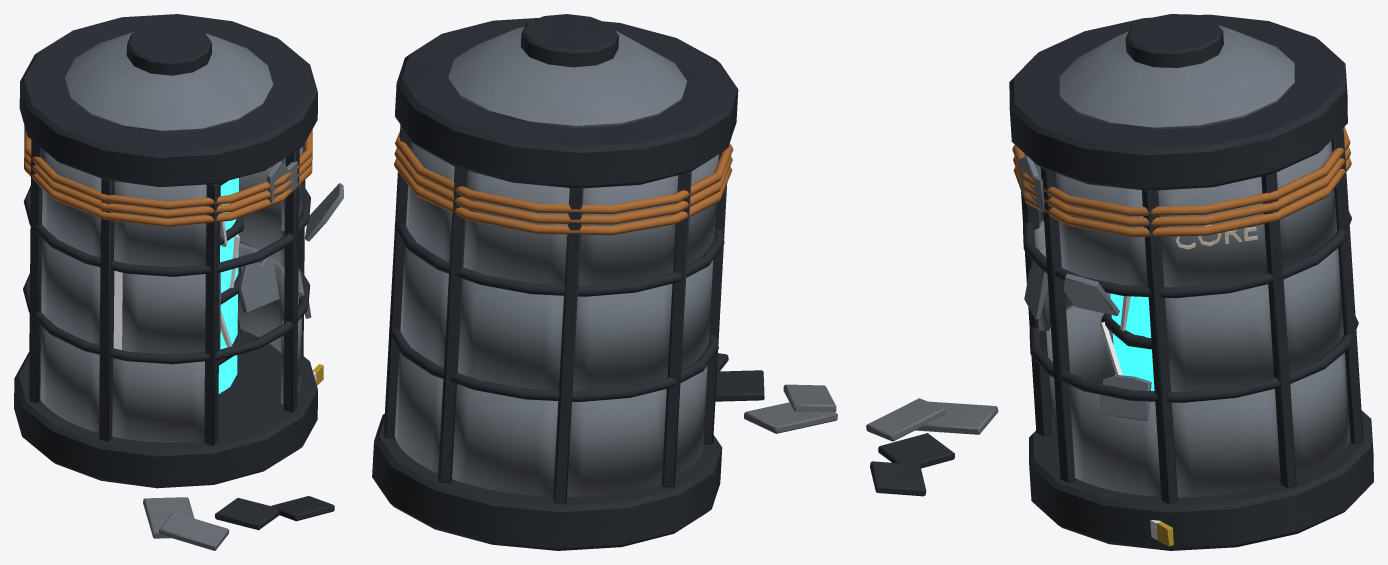
Rendered from power_core_cracked.glb.
The picture shows the model from 3 angles, left to right: view 1: azimuth 30°, elevation 25°; view 2: azimuth 150°, elevation 25°; view 3: azimuth 270°, elevation 25°; orthographic projection. The views are drawn at different scales.
Visible parts, largest first — view 1: power_core_cracked; view 2: power_core_cracked; view 3: power_core_cracked.
Part boxes in pixels (x1=…): power_core_cracked: x1=14, y1=14, x2=343, y2=550; power_core_cracked: x1=372, y1=14, x2=837, y2=550; power_core_cracked: x1=866, y1=14, x2=1373, y2=550.
Bounding box in the file's own units: 2.26 × 3.09 × 3.11.
7 materials, 6 textured.
